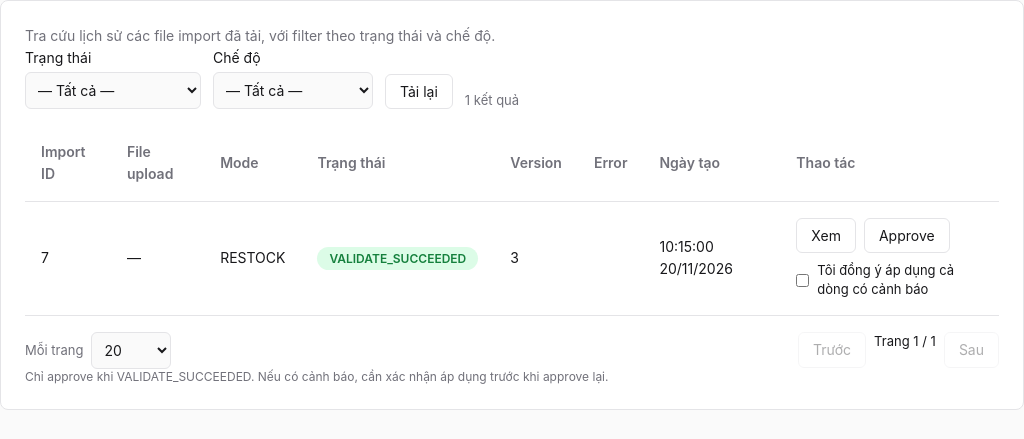
Test: approves a validated import and refreshes its status
Click the button with aria-label "Approve import #7".
click(907, 236)  # box [864,218,950,254]
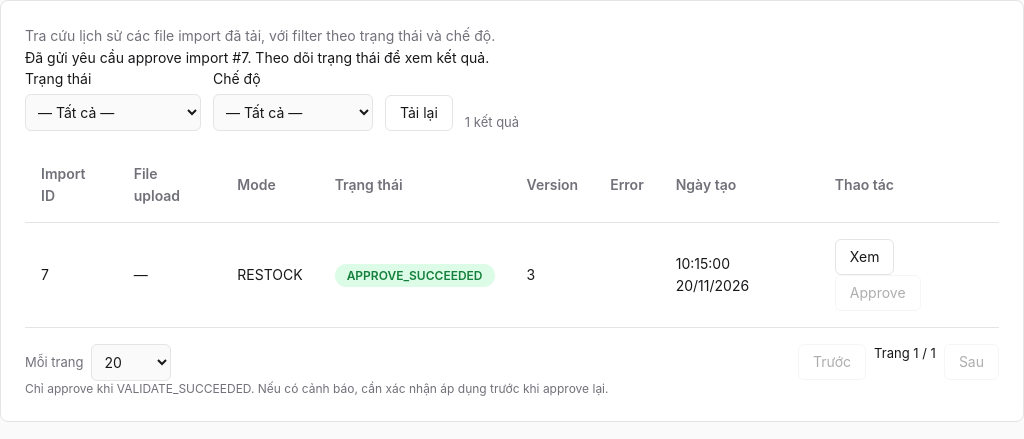
Result: the cell "APPROVE_SUCCEEDED" is shown at [319,223,510,327]
Result: the button with aria-label "Approve import #7" is disabled at [835,275,921,311]
